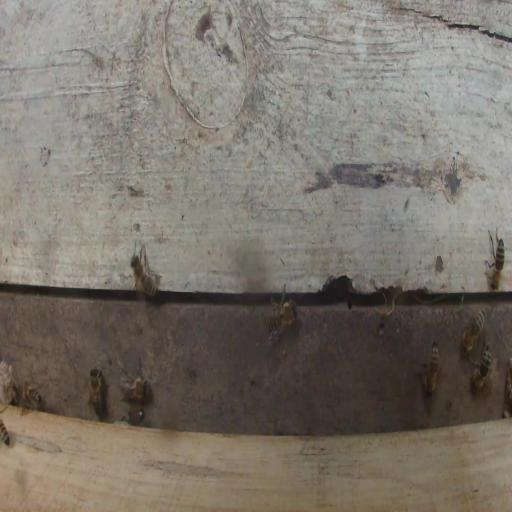nonpollenbee: (263, 281, 298, 348), (130, 243, 163, 305), (483, 226, 506, 292), (468, 335, 492, 391), (419, 340, 441, 400), (460, 309, 486, 357), (117, 375, 152, 405), (20, 379, 44, 415), (89, 368, 104, 419), (127, 406, 145, 426)
